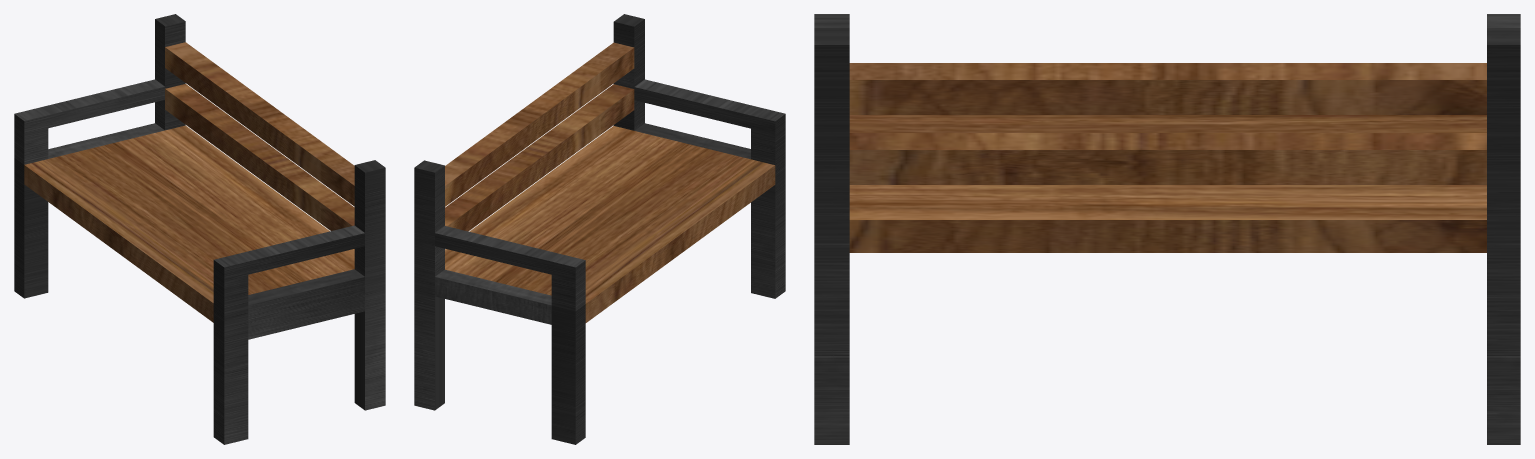
Rendered from Banca.fbx.
The picture shows the model from 3 angles, left to right: view 1: azimuth 30°, elevation 25°; view 2: azimuth 150°, elevation 25°; view 3: azimuth 270°, elevation 25°; orthographic projection. The views are drawn at different scales.
Parts seen in each view (by area): view 1: Cube.009; view 2: Cube.009; view 3: Cube.009.
Part boxes in pixels (left/top/right/bottom): Cube.009: left=14, top=14, right=385, bottom=444; Cube.009: left=414, top=14, right=785, bottom=444; Cube.009: left=814, top=14, right=1520, bottom=444.
Bounding box in the file's own units: 32.21 × 45.35 × 72.57.
